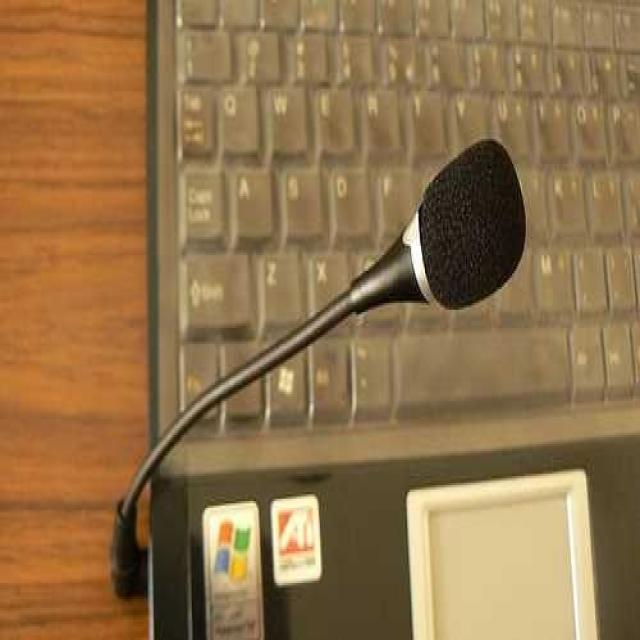microphone: (348, 133, 530, 329)
